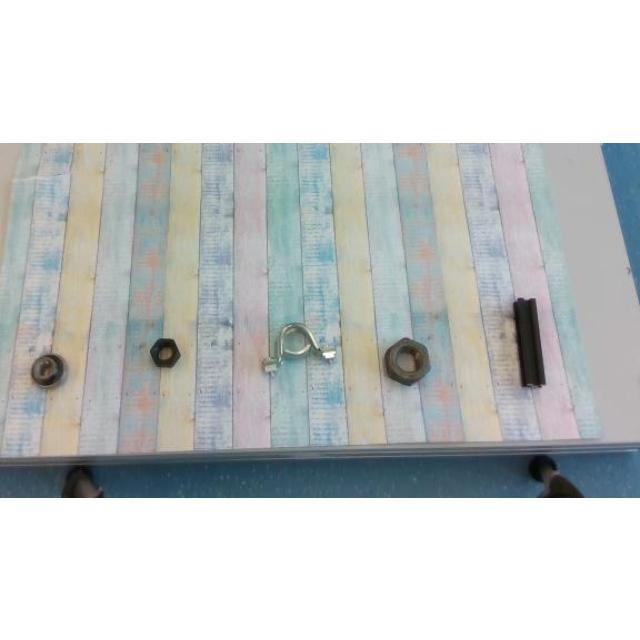Bearing2: (30, 352, 64, 386)
F20_20_B: (514, 296, 544, 386)
Housing: (261, 321, 337, 372)
M20: (150, 338, 180, 367)
M30: (384, 337, 430, 383)
